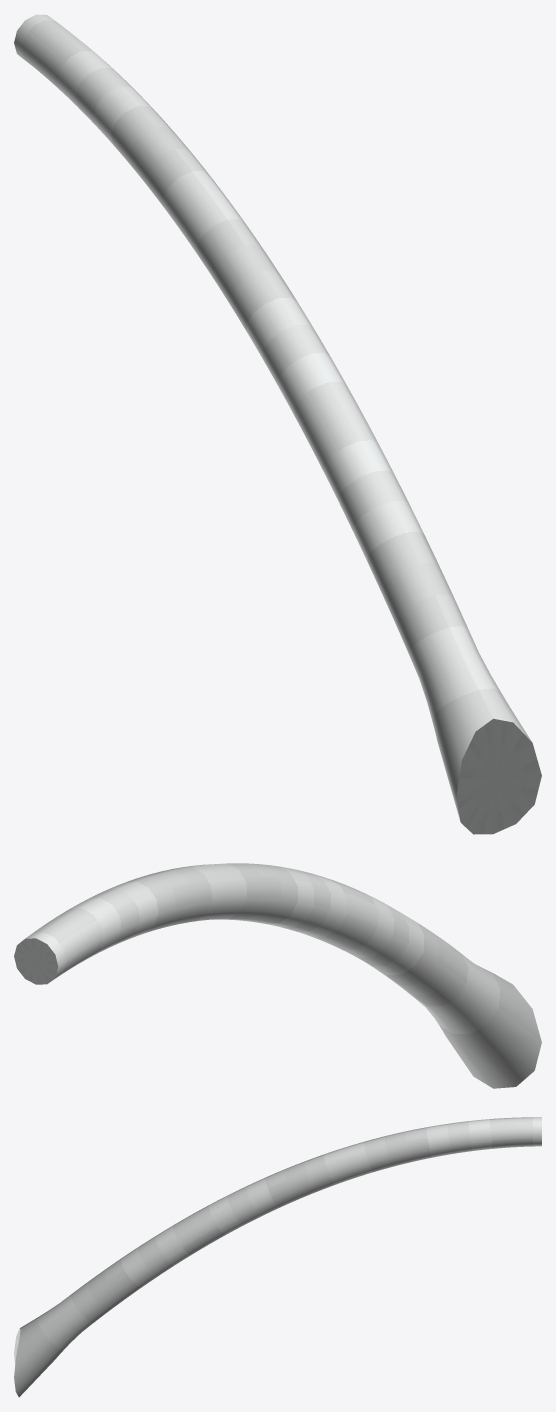
Rendered from luminairearm_caltrans8ft_inv.obj.
3 renders of one model, top to bottom at view 1: azimuth 30°, elevation 25°; view 2: azimuth 150°, elevation 25°; view 3: azimuth 270°, elevation 25°, orthographic. The views are drawn at different scales.
Parts seen in each view (by area): view 1: luminairearm_caltrans8ft_inv; view 2: luminairearm_caltrans8ft_inv; view 3: luminairearm_caltrans8ft_inv.
Part boxes in pixels (x1,y1,x2,y2): luminairearm_caltrans8ft_inv: (14, 14, 541, 834); luminairearm_caltrans8ft_inv: (14, 863, 541, 1088); luminairearm_caltrans8ft_inv: (14, 1117, 541, 1397).
Bounding box in the file's own units: 0.1067 × 0.5779 × 1.
